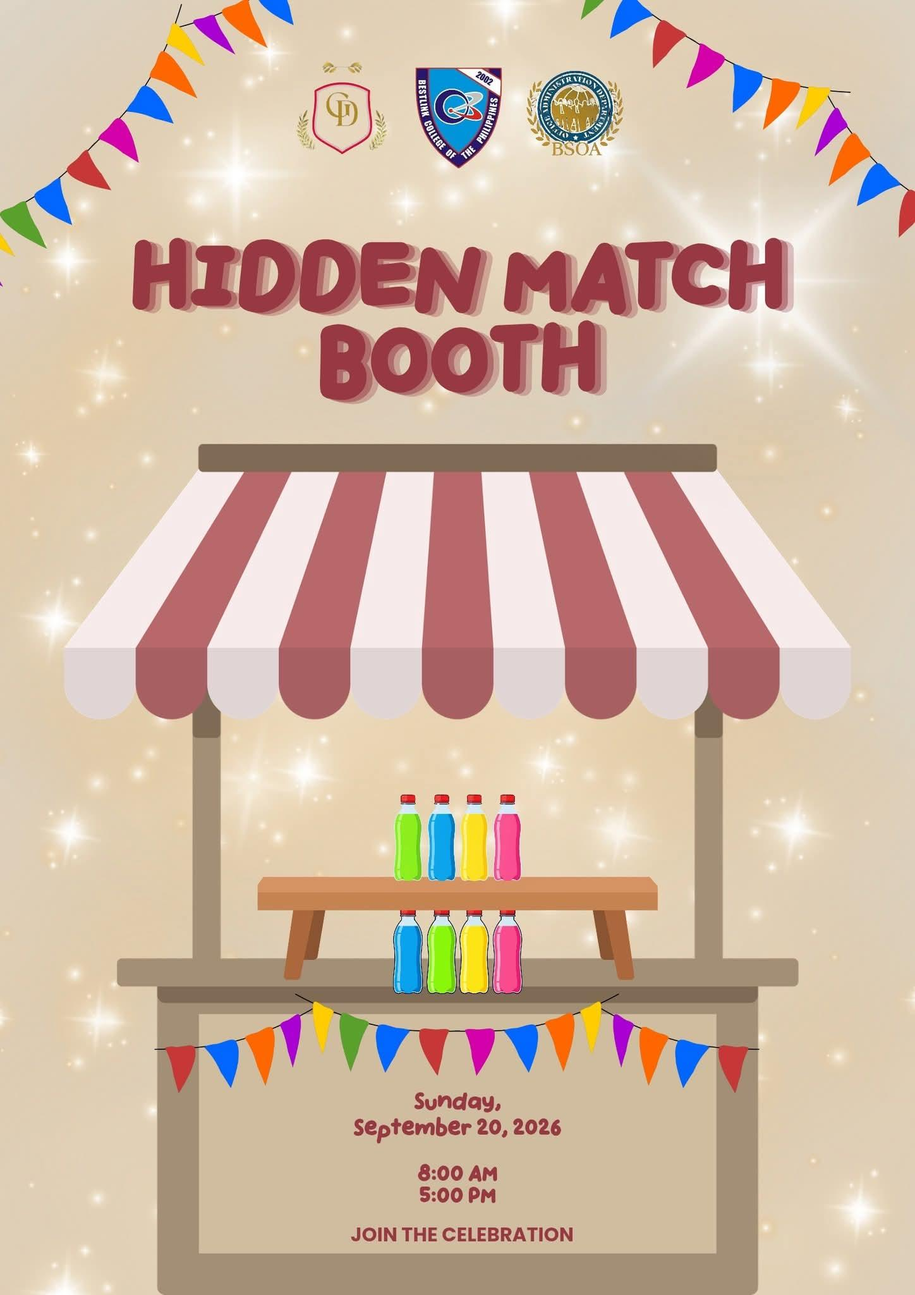embellishment: (380, 780, 531, 1003)
logo: (522, 62, 631, 163), (410, 60, 507, 172), (291, 59, 393, 165)
text: (120, 221, 803, 408), (342, 1089, 568, 1142), (344, 1218, 576, 1247), (413, 1157, 504, 1208)
